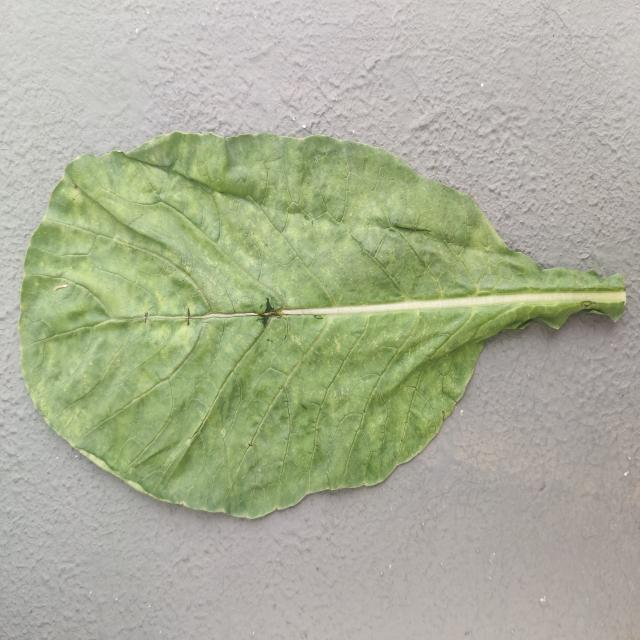raddish: (20, 133, 625, 518)
